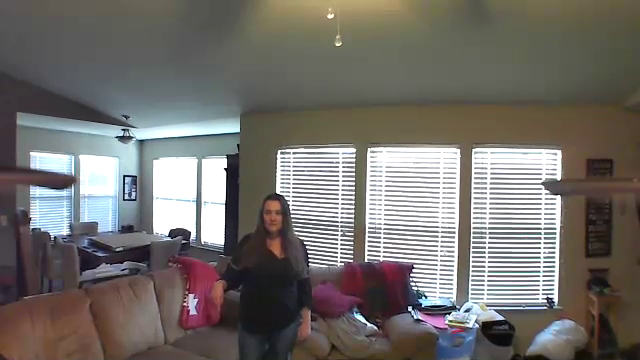down: (204, 276, 228, 315)
